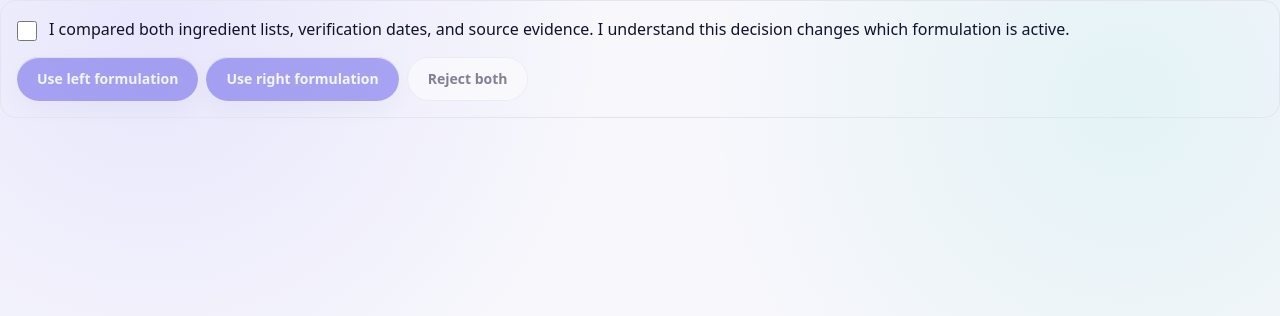
Test: Phase 8 formulation conflict controls › never enables a formulation that lacks verified source evidence
Click the checkbox. click: (27, 31)
box: [17,21,37,41]
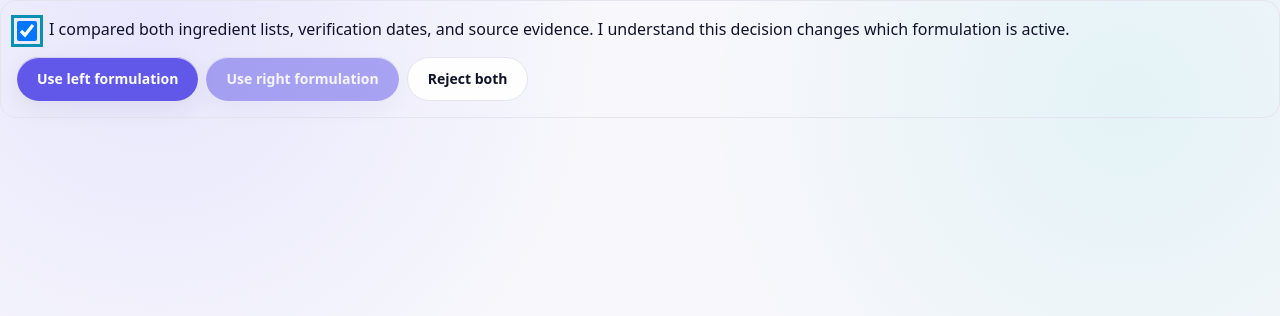
Check: the button "Use right formulation" is disabled, box [206,57,399,101]
Check: the button "Reject both" is enabled, box [407,57,528,101]
